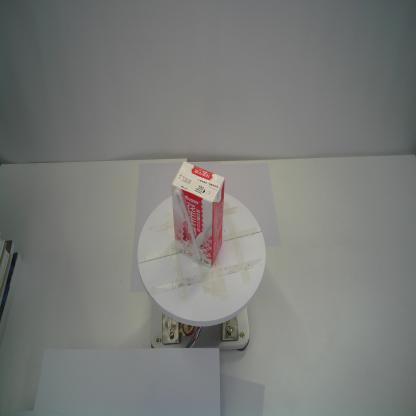Milk: (171, 159, 225, 270)
